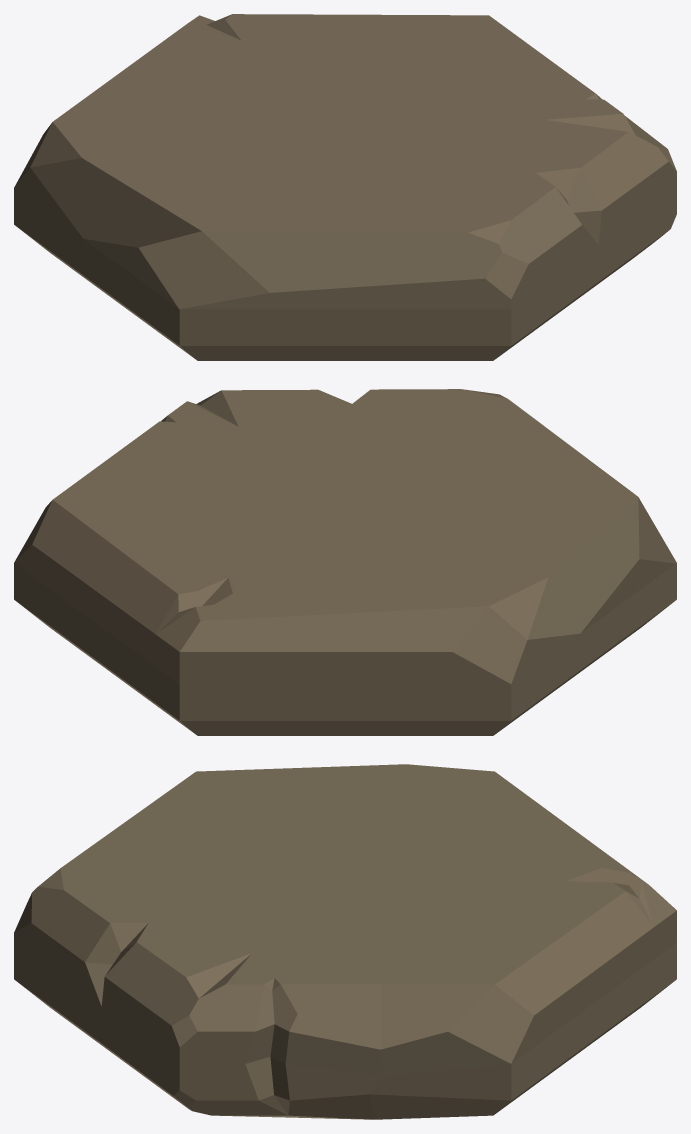
File: field.glb
3 renders of one model, top to bottom at view 1: azimuth 30°, elevation 25°; view 2: azimuth 150°, elevation 25°; view 3: azimuth 270°, elevation 25°, orthographic.
Visible parts, largest first — view 1: Cylinder.006; view 2: Cylinder.006; view 3: Cylinder.006.
Boxes of the visible parts, x1,y1,x2,y2 form: Cylinder.006: [14, 14, 676, 360]; Cylinder.006: [14, 389, 676, 735]; Cylinder.006: [14, 764, 676, 1119].
Size of the model in its own units: 1.75 by 0.4704 by 2.
Materials: 1 (1 with a texture image).
